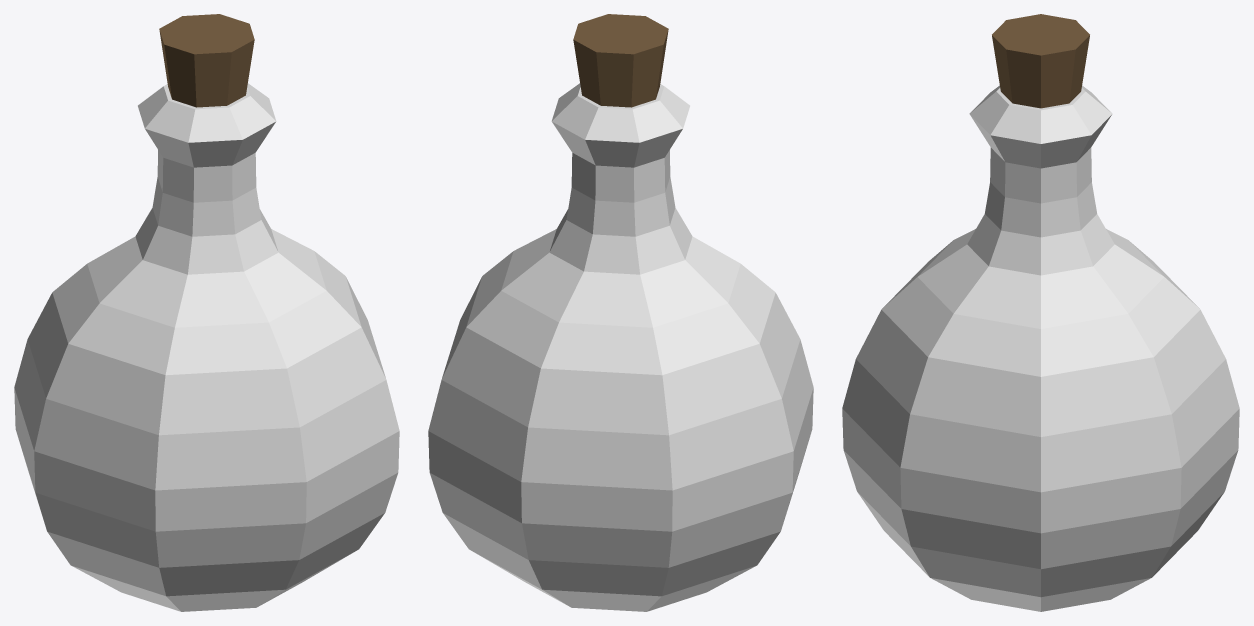
File: lowpoly_-_potion.glb
3 renders of one model, left to right at view 1: azimuth 30°, elevation 25°; view 2: azimuth 150°, elevation 25°; view 3: azimuth 270°, elevation 25°, orthographic.
Parts seen in each view (by area): view 1: Cylinder; view 2: Cylinder; view 3: Cylinder.
Boxes of the visible parts, x1,y1,x2,y2 form: Cylinder: (14, 14, 399, 611); Cylinder: (428, 14, 813, 611); Cylinder: (842, 14, 1239, 611).
Size of the model in its own units: 3.14 by 4.67 by 3.14.
